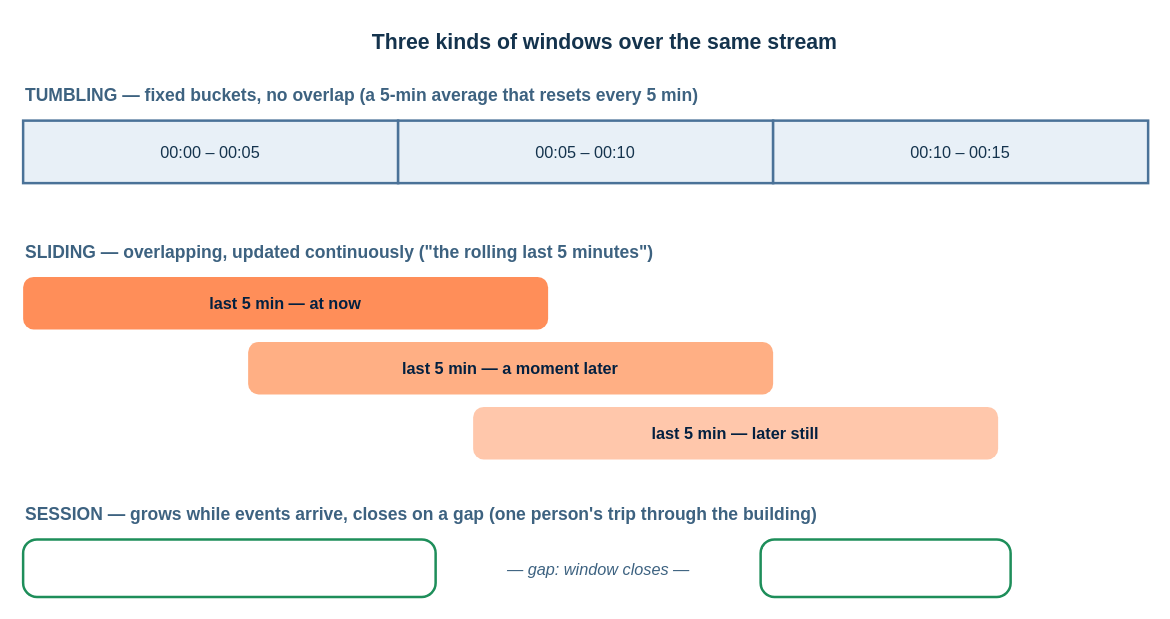
Image size: 1170x619. Some labels were removed from this diagram. The shapes that lost their labels are listed below. From the top down, each one's centre as x and y in pixels, then its label:
point (228, 568): event event event event
point (885, 568): event event
